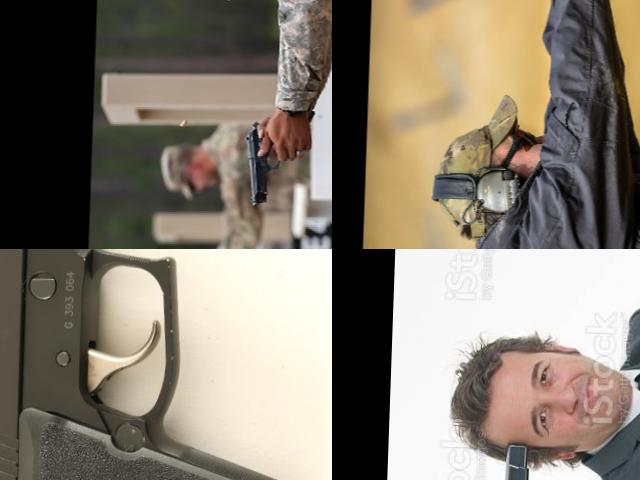handgun: (0, 249, 332, 480), (242, 114, 288, 207), (491, 437, 588, 480), (528, 0, 618, 41)
